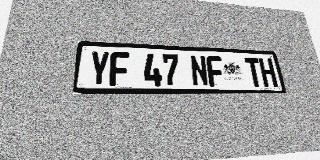4: (144, 53, 162, 86)
7: (161, 54, 181, 86)
F: (109, 52, 129, 86), (206, 56, 225, 87)
H: (258, 58, 278, 87)
N: (190, 55, 209, 87)
T: (244, 57, 264, 87)
Y: (88, 51, 110, 86)
